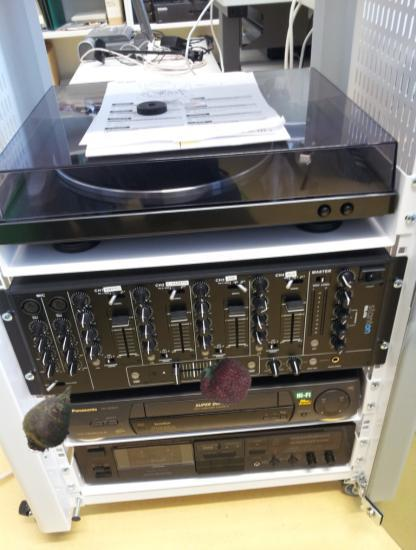Beetroot: (8, 376, 92, 460)
Strawberry: (198, 355, 253, 410)
